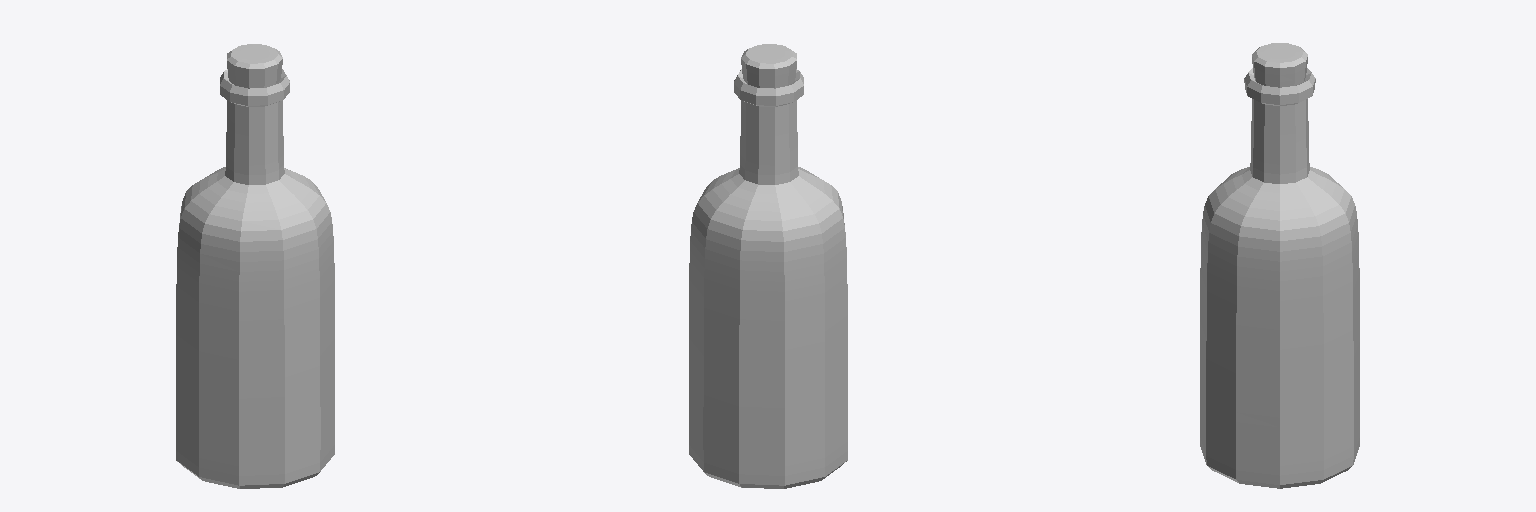
Rendered from piaoLiuPing1.obj.
3 views of the same model, side by side, from view 1: azimuth 30°, elevation 25°; view 2: azimuth 150°, elevation 25°; view 3: azimuth 270°, elevation 25° (orthographic).
Visible parts, largest first — view 1: nurbsToPoly1, nurbsToPoly2; view 2: nurbsToPoly1, nurbsToPoly2; view 3: nurbsToPoly1, nurbsToPoly2.
Part boxes in pixels (x1,y1,x2,y2): nurbsToPoly1: (176, 69, 334, 488); nurbsToPoly2: (227, 44, 282, 88); nurbsToPoly1: (689, 69, 847, 488); nurbsToPoly2: (741, 44, 796, 88); nurbsToPoly1: (1200, 68, 1359, 488); nurbsToPoly2: (1252, 43, 1307, 87).
Bounding box in the file's own units: 0.0778 × 0.2191 × 0.0786.